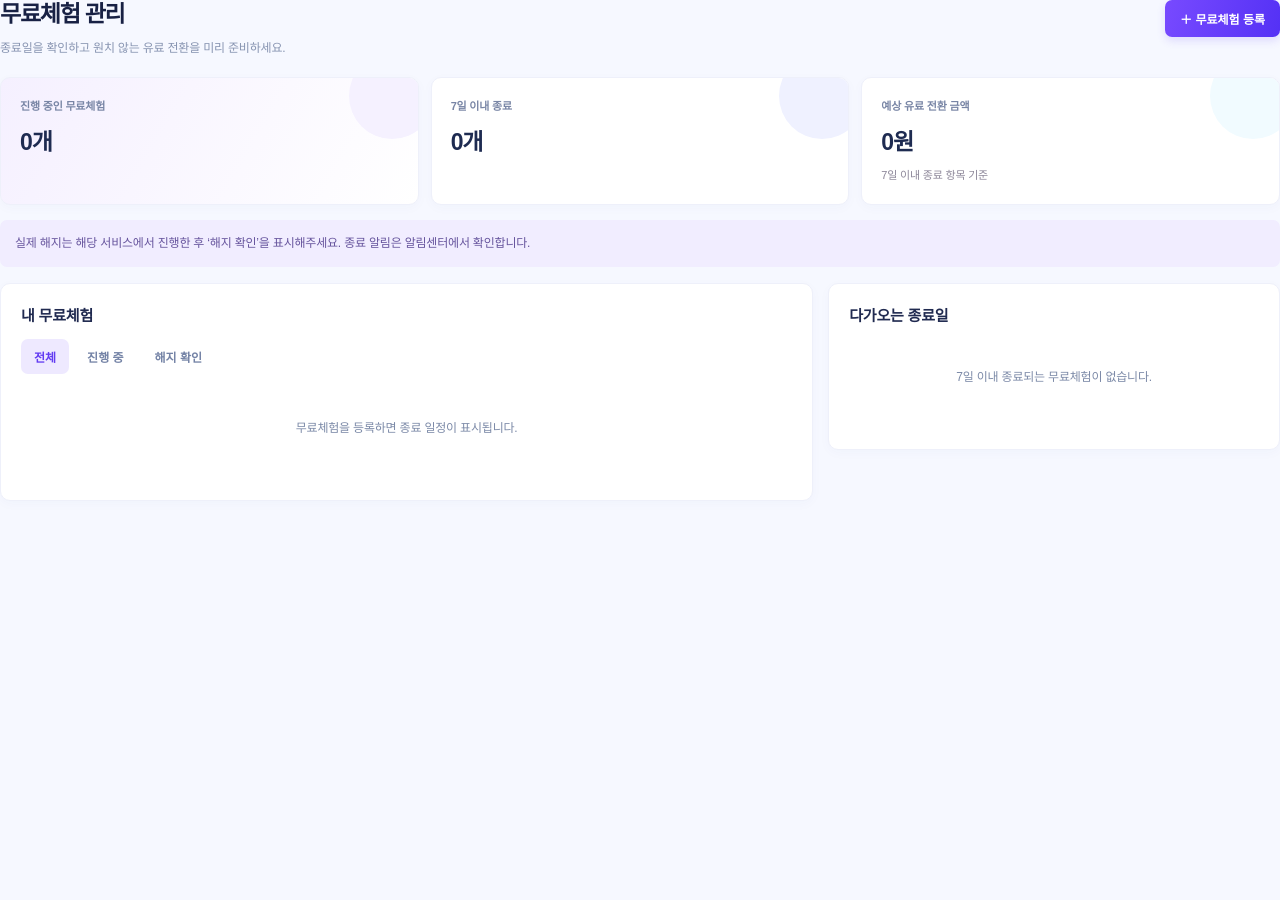
Test: saves a free trial through the API and displays the saved record
Check: the text "무료체험을 등록하면 종료 일정이 표시됩니다." is shown, box [296, 421, 518, 435]
Click the button "＋ 무료체험 등록": (1223, 18) [1165, 0, 1279, 37]
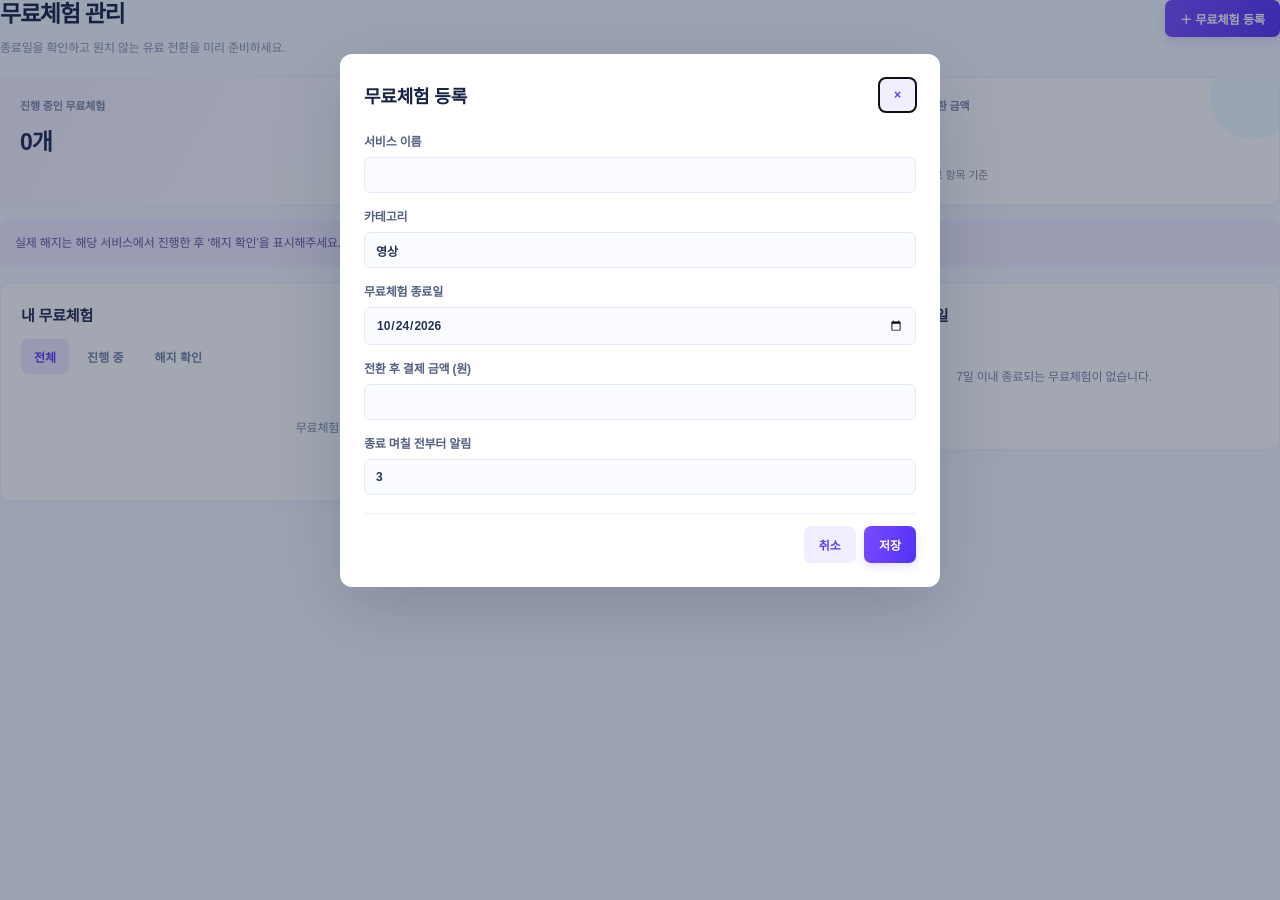
In the field labelled "서비스 이름": (640, 175) [364, 157, 916, 193], type "My trial"
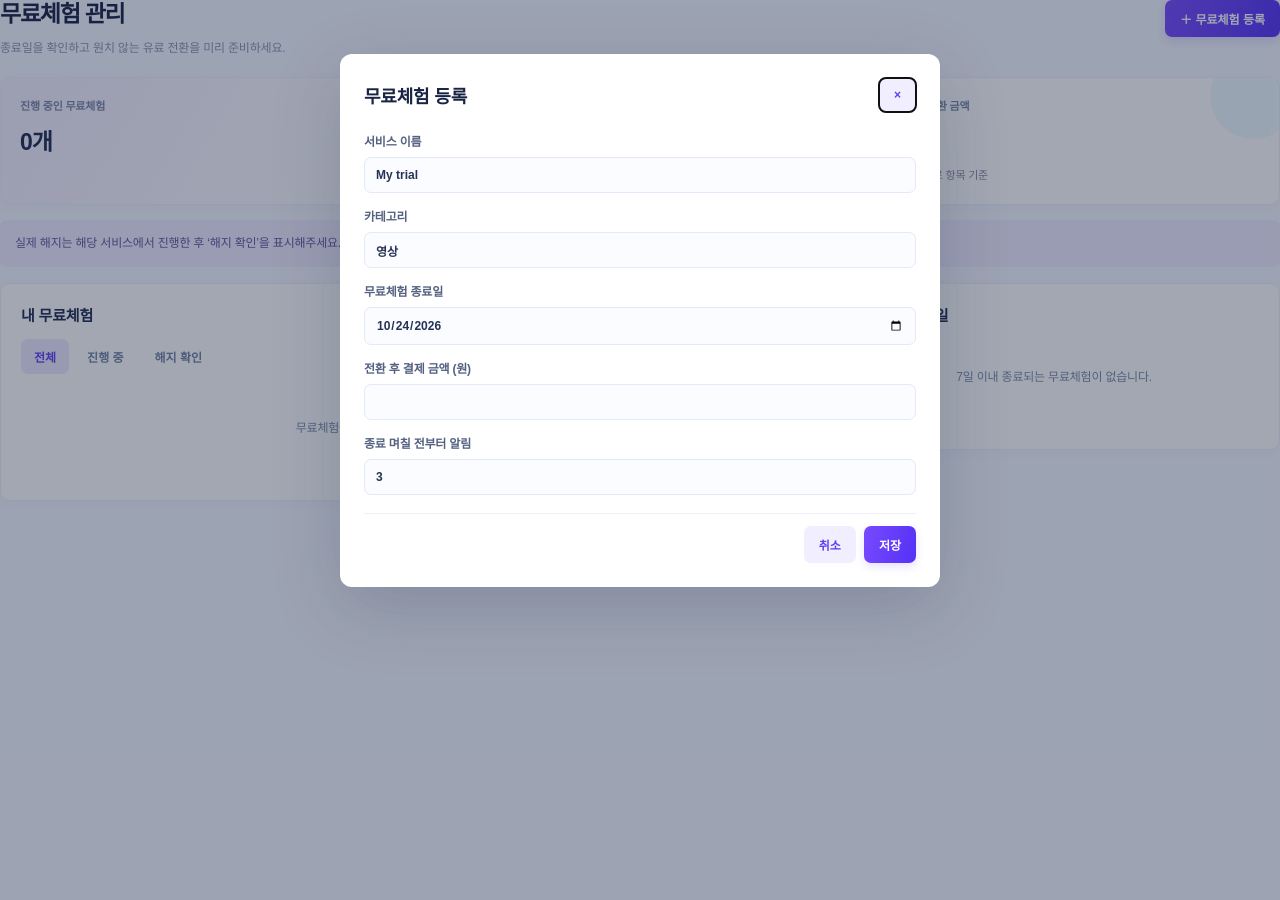
In the number field labelled "전환 후 결제 금액 (원)": (640, 402) [364, 384, 916, 420], type "4900"
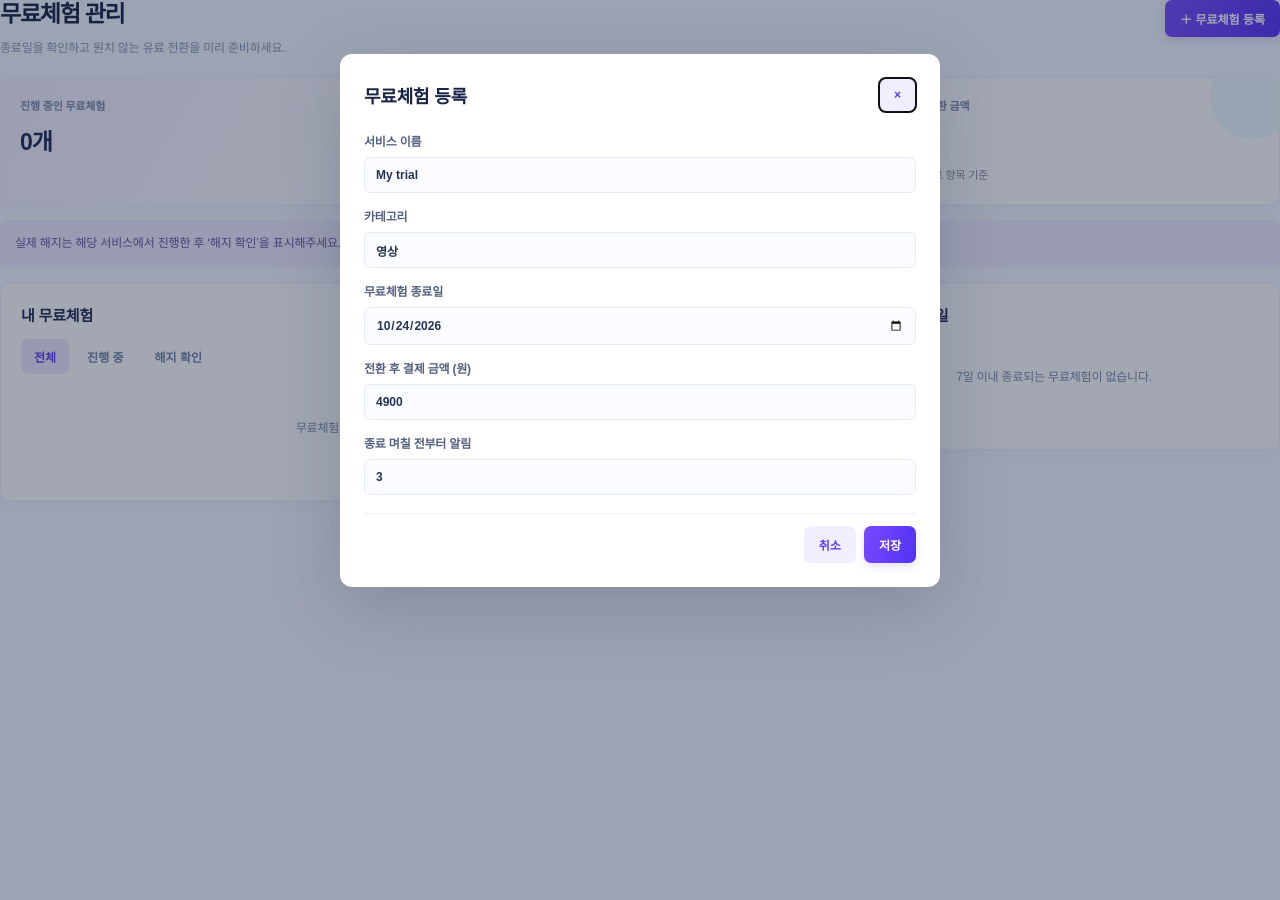
Click the button "저장": (890, 544) [864, 526, 916, 563]
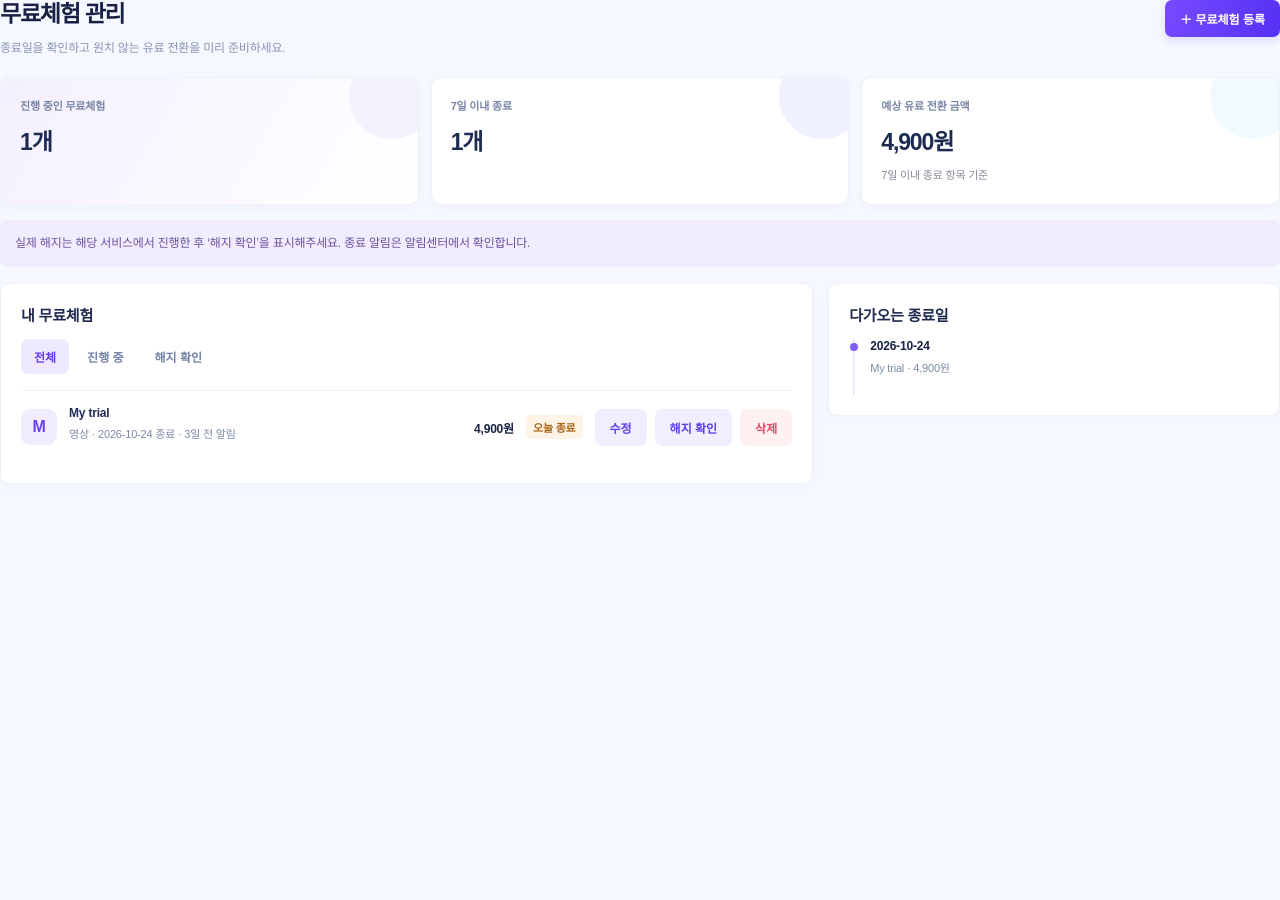
Check: the text "My trial" is shown, box [69, 406, 110, 420]
